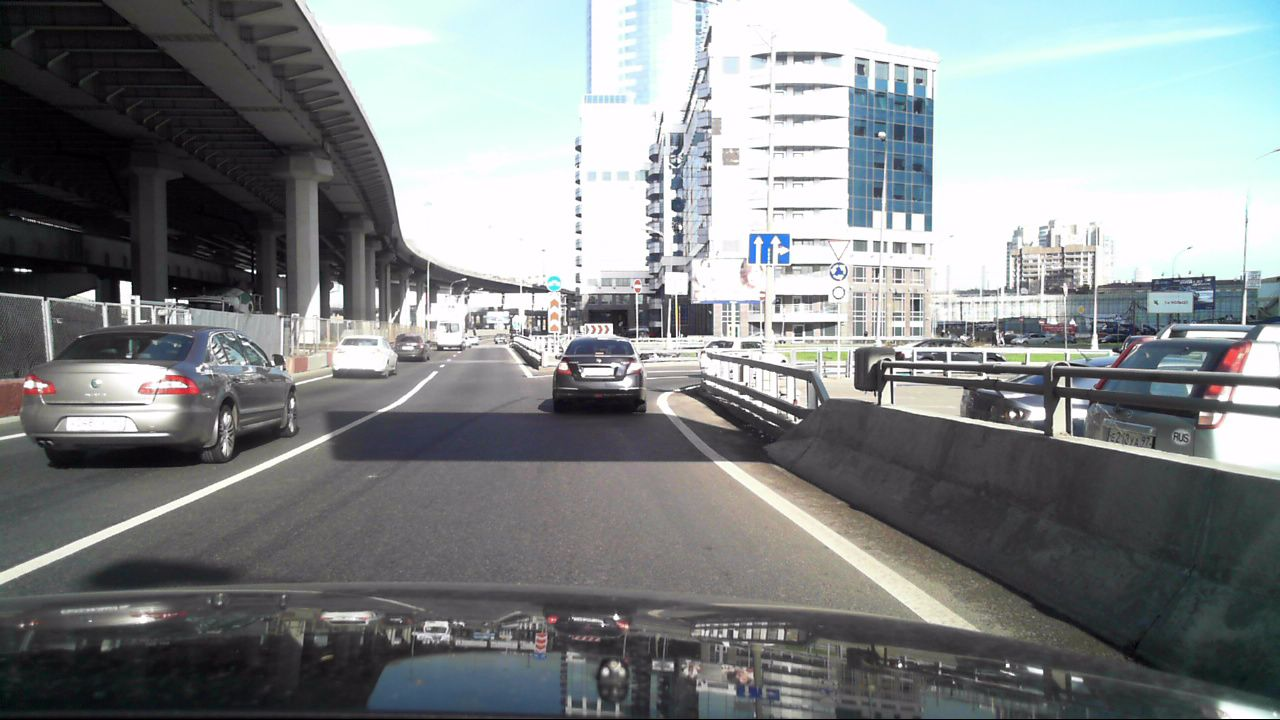Round-About: (829, 262, 850, 284)
